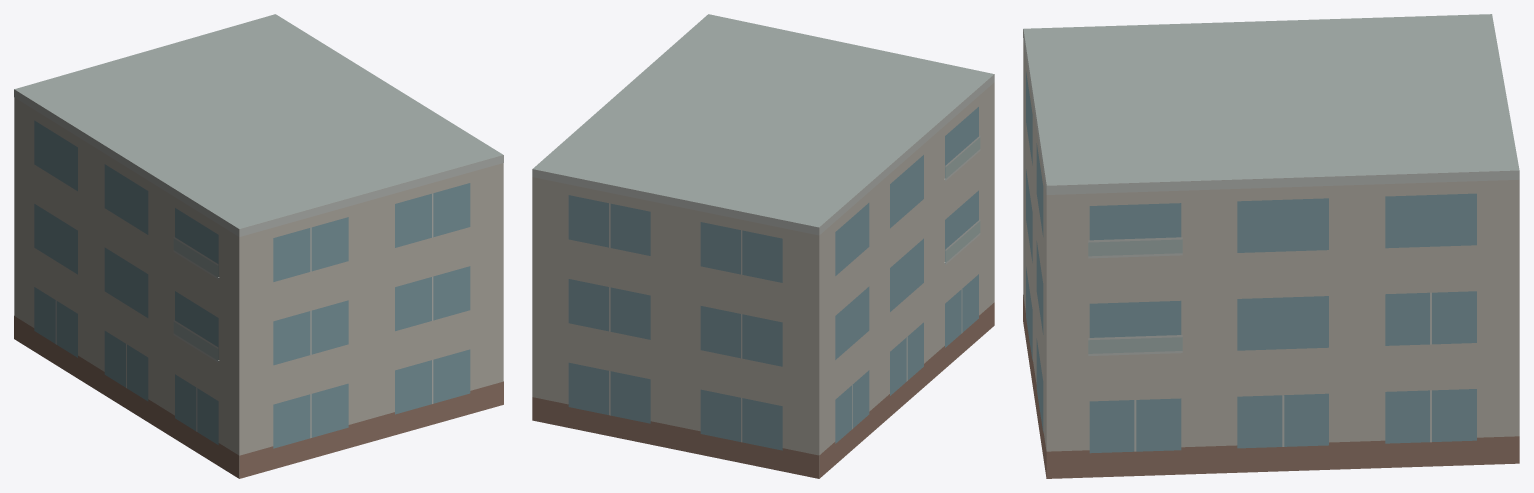
File: survey-upis-32702526.glb
The picture shows the model from 3 angles, left to right: view 1: azimuth 30°, elevation 25°; view 2: azimuth 150°, elevation 25°; view 3: azimuth 270°, elevation 25°; orthographic projection. The views are drawn at different scales.
Visible parts, largest first — view 1: survey-upis-32702526.tmp; view 2: survey-upis-32702526.tmp; view 3: survey-upis-32702526.tmp.
Part boxes in pixels (x1,y1,x2,y2): survey-upis-32702526.tmp: (14,14,503,478); survey-upis-32702526.tmp: (532,14,994,478); survey-upis-32702526.tmp: (1023,14,1519,478).
Bounding box in the file's own units: 9.65 × 7.67 × 11.78.
